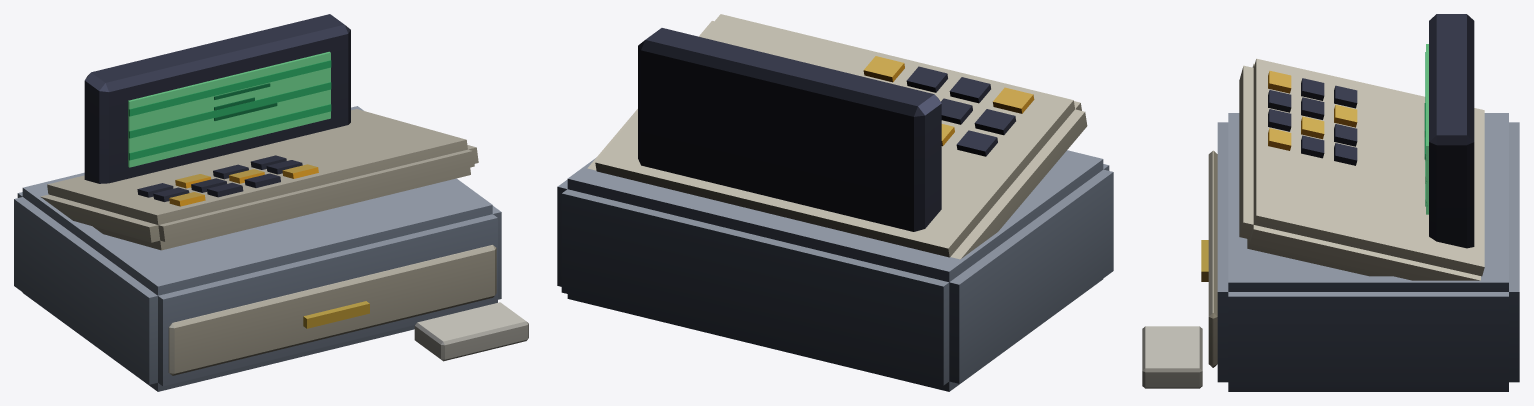
Rendered from cash_register.glb.
The picture shows the model from 3 angles, left to right: view 1: azimuth 30°, elevation 25°; view 2: azimuth 150°, elevation 25°; view 3: azimuth 270°, elevation 25°; orthographic projection. The views are drawn at different scales.
Visible parts, largest first — view 1: cash_register; view 2: cash_register; view 3: cash_register.
Boxes of the visible parts, x1,y1,x2,y2 form: cash_register: (14, 14, 528, 391); cash_register: (557, 14, 1113, 391); cash_register: (1142, 14, 1519, 391).
Bounding box in the file's own units: 0.56 × 0.34 × 0.5.
